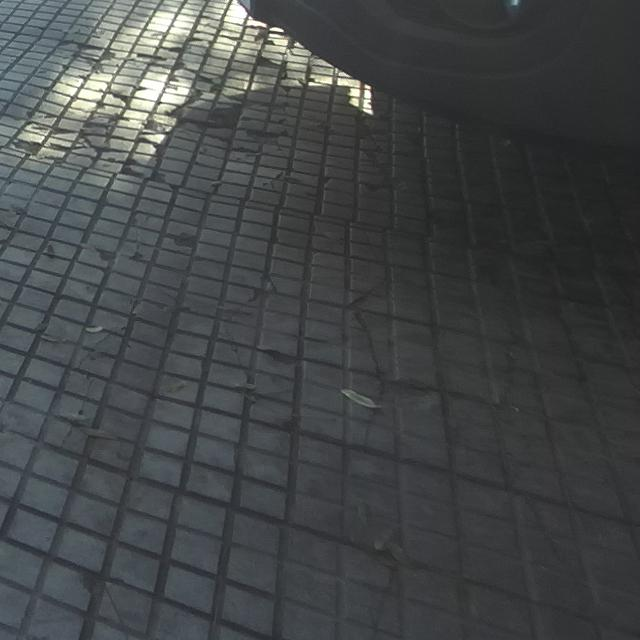calcada_quebrada: (210, 288, 273, 388), (338, 557, 406, 640), (511, 490, 575, 571), (343, 376, 395, 453), (491, 287, 519, 410), (343, 307, 389, 374), (345, 257, 388, 307), (132, 135, 167, 183), (68, 133, 119, 156), (81, 114, 128, 132)
